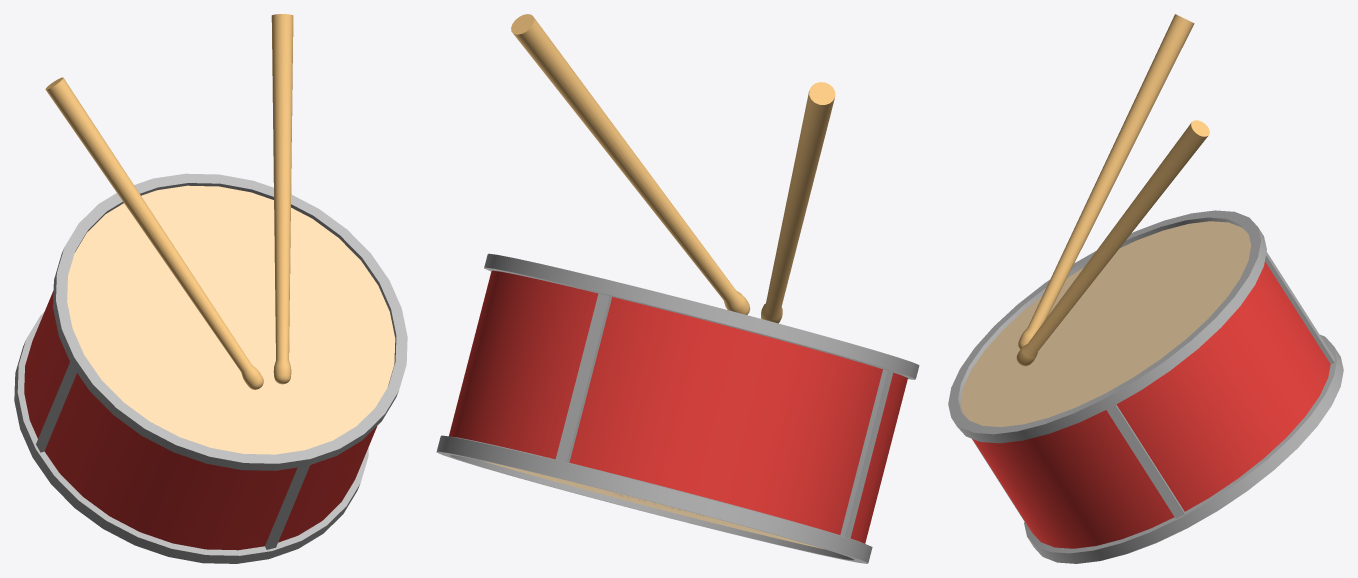
Rendered from drum.fbx.
3 views of the same model, side by side, from view 1: azimuth 30°, elevation 25°; view 2: azimuth 150°, elevation 25°; view 3: azimuth 270°, elevation 25° (orthographic). The views are drawn at different scales.
Visible parts, largest first — view 1: Cylinder.495; view 2: Cylinder.495; view 3: Cylinder.495.
Boxes of the visible parts, box(x1,y1,x2,y2) form: Cylinder.495: box(14, 14, 407, 563); Cylinder.495: box(436, 14, 919, 563); Cylinder.495: box(948, 14, 1343, 563).
Size of the model in its own units: 157 by 220 by 172.
Materials: 1 (1 with a texture image).
